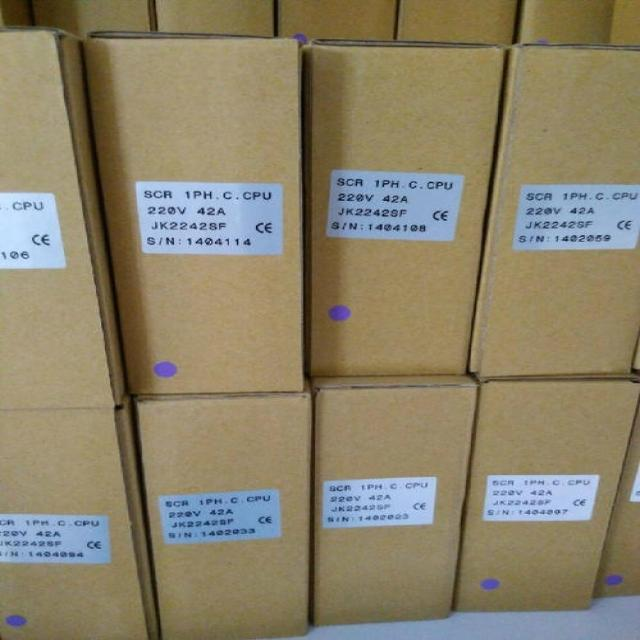box: (82, 30, 304, 395), (306, 39, 507, 377), (469, 43, 639, 377), (0, 26, 126, 409), (134, 377, 312, 639), (452, 373, 639, 612), (310, 376, 479, 627), (0, 394, 159, 639), (593, 398, 639, 598), (396, 0, 517, 46), (278, 1, 397, 44), (32, 0, 155, 37), (154, 0, 274, 36), (519, 1, 615, 44), (611, 0, 639, 45)
